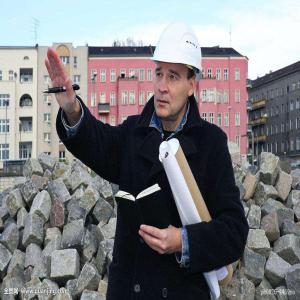white: (152, 17, 204, 125)
